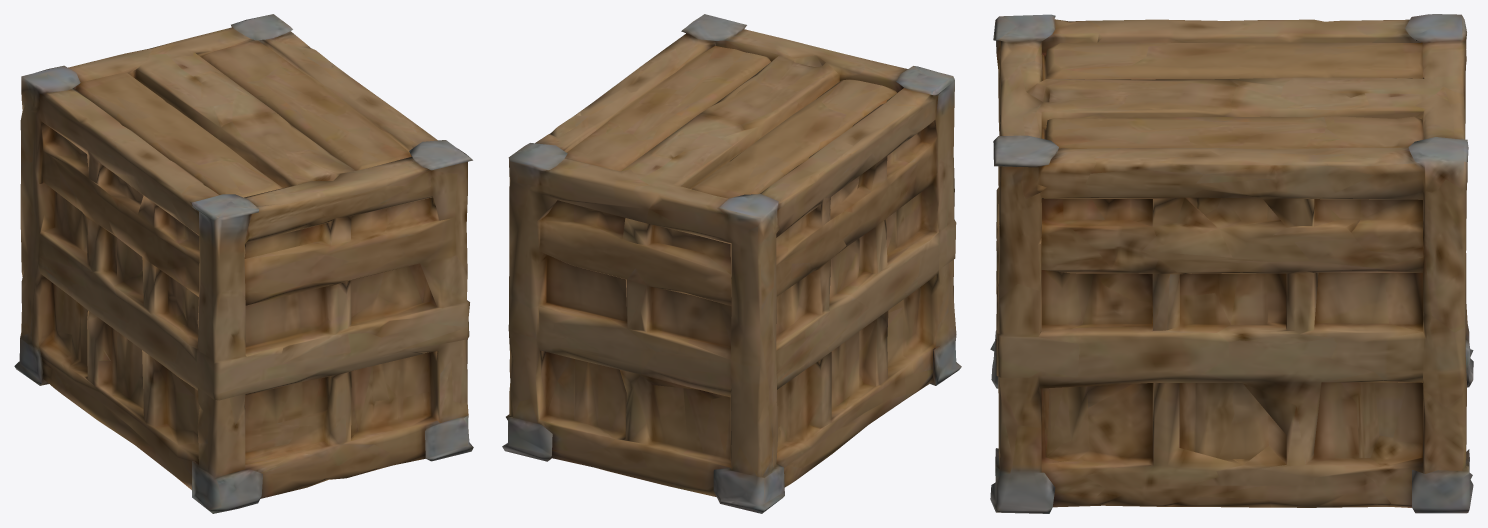
The model's file is crate-v1.glb.
3 renders of one model, left to right at view 1: azimuth 30°, elevation 25°; view 2: azimuth 150°, elevation 25°; view 3: azimuth 270°, elevation 25°, orthographic. The views are drawn at different scales.
Visible parts, largest first — view 1: prop__crate; view 2: prop__crate; view 3: prop__crate.
Boxes of the visible parts, x1,y1,x2,y2 form: prop__crate: (14, 14, 473, 513); prop__crate: (502, 14, 961, 513); prop__crate: (990, 14, 1473, 513).
Bounding box in the file's own units: 0.507 × 0.55 × 0.6752.
Materials: 1 (1 with a texture image).
